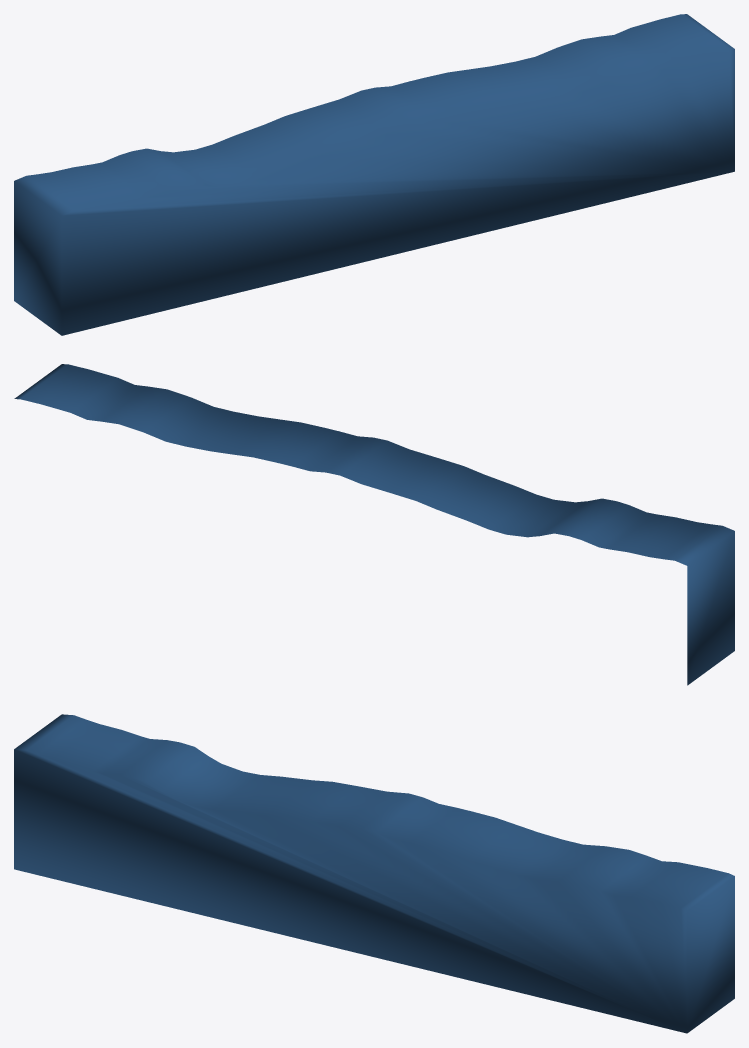
Rendered from playerland.glb.
The picture shows the model from 3 angles, top to bottom: view 1: azimuth 30°, elevation 25°; view 2: azimuth 150°, elevation 25°; view 3: azimuth 330°, elevation 25°; orthographic projection.
Parts seen in each view (by area): view 1: PlayerLand; view 2: PlayerLand; view 3: PlayerLand.
Part boxes in pixels (x1,y1,x2,y2): PlayerLand: (14, 14, 734, 335); PlayerLand: (14, 364, 734, 685); PlayerLand: (14, 714, 734, 1033).
Size of the model in its own units: 5 by 0.8914 by 0.6148.
